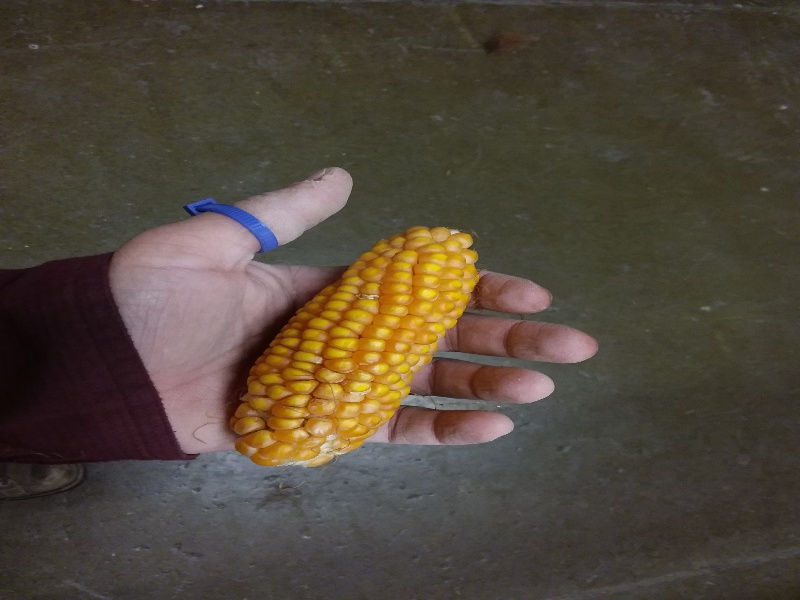band: (183, 197, 280, 256)
ear: (227, 219, 485, 474)
